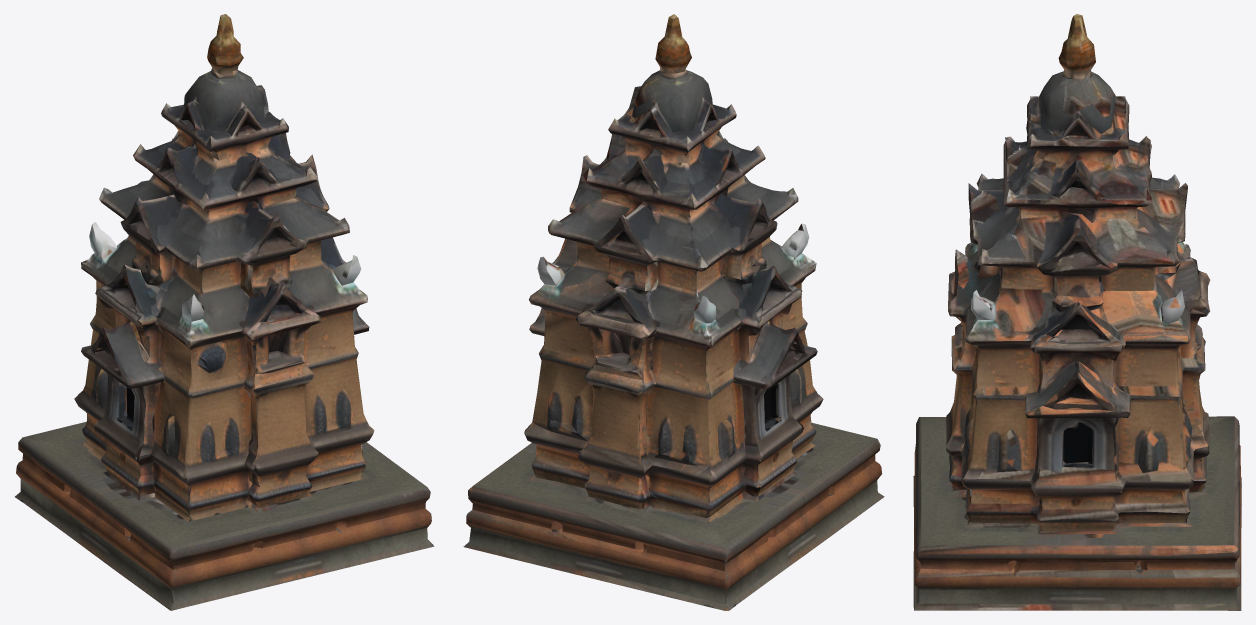
Rendered from ayutthaya_wat.glb.
The picture shows the model from 3 angles, left to right: view 1: azimuth 30°, elevation 25°; view 2: azimuth 150°, elevation 25°; view 3: azimuth 270°, elevation 25°; orthographic projection. The views are drawn at different scales.
Parts seen in each view (by area): view 1: geometry_0; view 2: geometry_0; view 3: geometry_0.
Boxes of the visible parts, bbox=[...] form: geometry_0: bbox=[15, 14, 434, 610]; geometry_0: bbox=[463, 14, 884, 610]; geometry_0: bbox=[913, 14, 1241, 610].
Bounding box in the file's own units: 3.32 × 6.04 × 3.4.
1 material, 1 textured.
